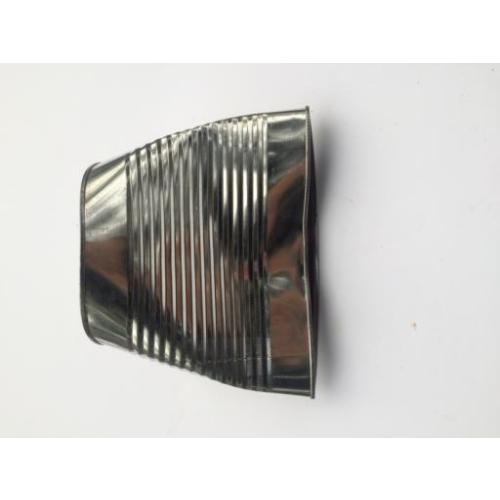metal: (81, 108, 320, 396)
